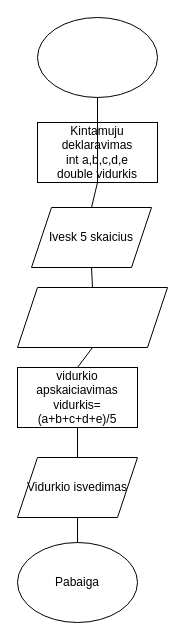
Image size: 185x640. Some labels were removed from this diagram. The shapes that lost their labels are listed below. From the top down, each one's centre as x and y in pixels, then its label:
At (x=97, y=57): "Pradzia".
At (x=92, y=317): "Duomenu ivedimas cin>>a>>b>>c>>d>>e".
